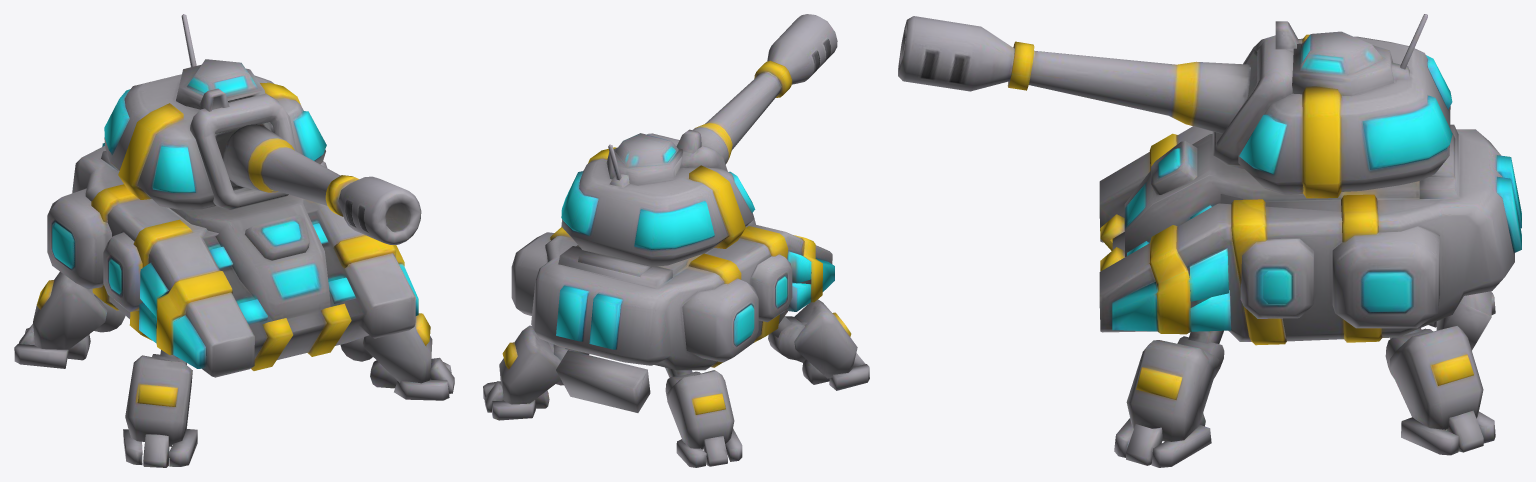
Rendered from siege_tank.glb.
The picture shows the model from 3 angles, left to right: view 1: azimuth 30°, elevation 25°; view 2: azimuth 150°, elevation 25°; view 3: azimuth 270°, elevation 25°; orthographic projection. The views are drawn at different scales.
Parts seen in each view (by area): view 1: tripo_node_d90e3e17-2b16-4550-b3b7-5f63b8614330; view 2: tripo_node_d90e3e17-2b16-4550-b3b7-5f63b8614330; view 3: tripo_node_d90e3e17-2b16-4550-b3b7-5f63b8614330.
Boxes of the visible parts, box(x1,y1,x2,y2) form: tripo_node_d90e3e17-2b16-4550-b3b7-5f63b8614330: box(14, 14, 454, 467); tripo_node_d90e3e17-2b16-4550-b3b7-5f63b8614330: box(483, 14, 869, 467); tripo_node_d90e3e17-2b16-4550-b3b7-5f63b8614330: box(898, 14, 1521, 467).
Size of the model in its own units: 2.4 by 2.21 by 3.4.
Materials: 1 (1 with a texture image).
